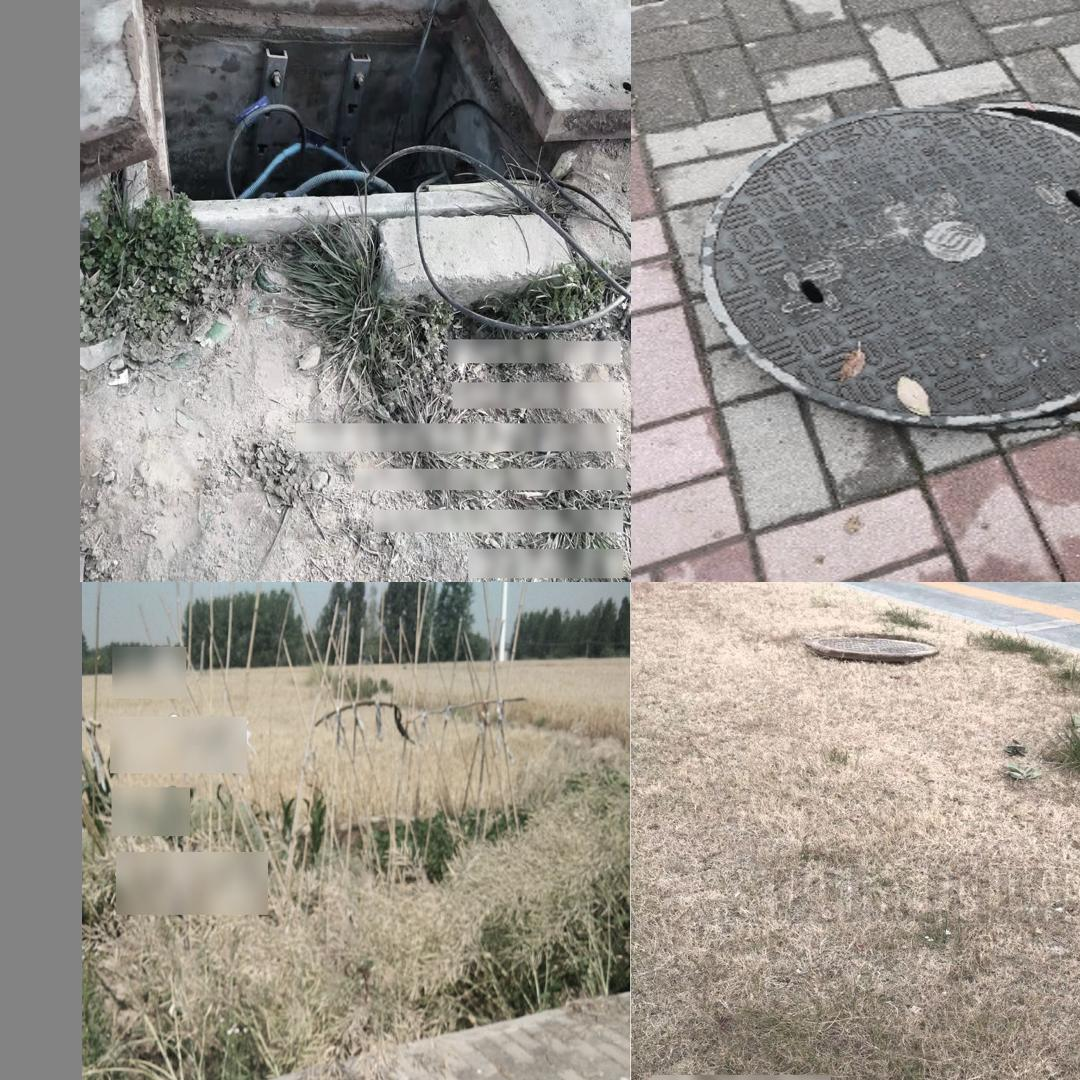uncovered: (700, 100, 1080, 428), (80, 0, 624, 222), (803, 632, 938, 668), (221, 1071, 447, 1080)
